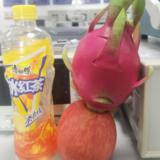apple: (57, 101, 117, 160)
pitaya: (70, 2, 146, 112)
